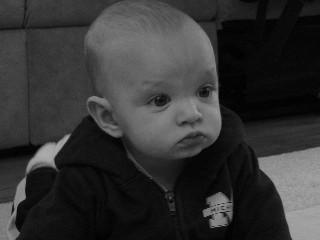without_mask: (78, 5, 236, 172)
